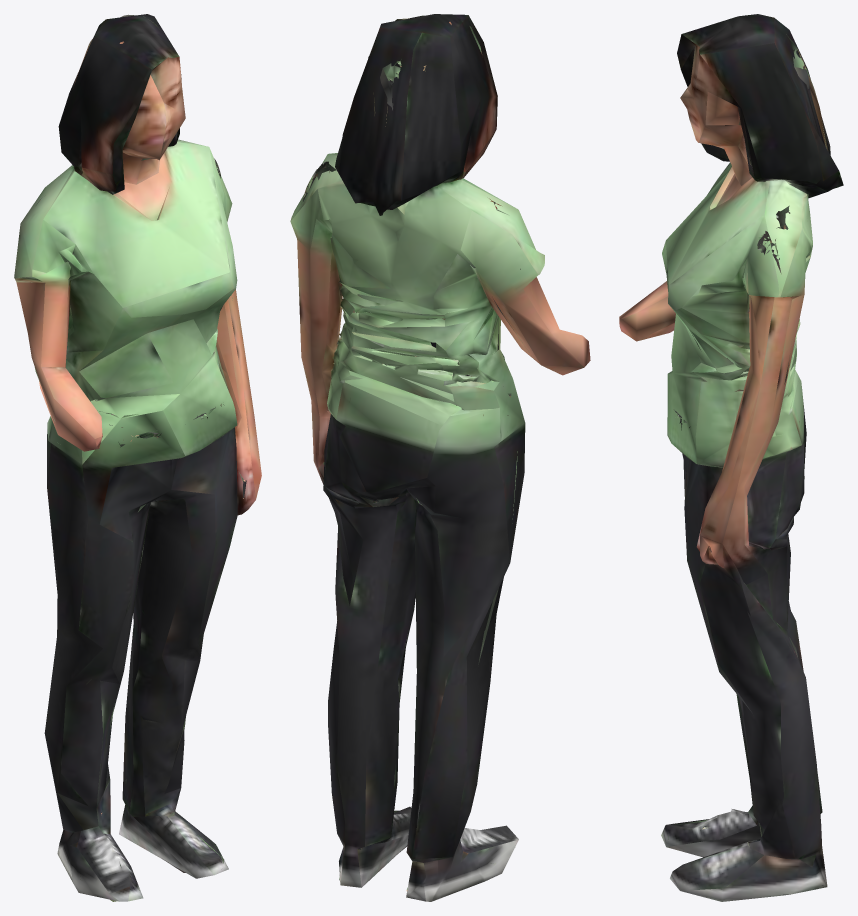
Rendered from person_19.glb.
3 renders of one model, left to right at view 1: azimuth 30°, elevation 25°; view 2: azimuth 150°, elevation 25°; view 3: azimuth 270°, elevation 25°, orthographic.
Parts seen in each view (by area): view 1: geometry_0; view 2: geometry_0; view 3: geometry_0.
Boxes of the visible parts, box(x1,y1,x2,y2) form: geometry_0: box(14, 14, 261, 901); geometry_0: box(290, 14, 590, 901); geometry_0: box(619, 14, 843, 901).
Size of the model in its own units: 0.8294 by 2.87 by 0.689.
Materials: 1 (1 with a texture image).
